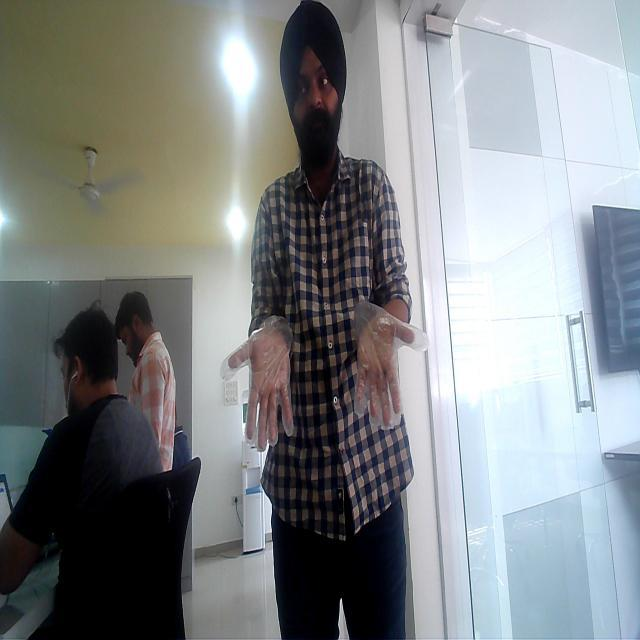with_gloves: (220, 320, 318, 459), (347, 288, 439, 422)
